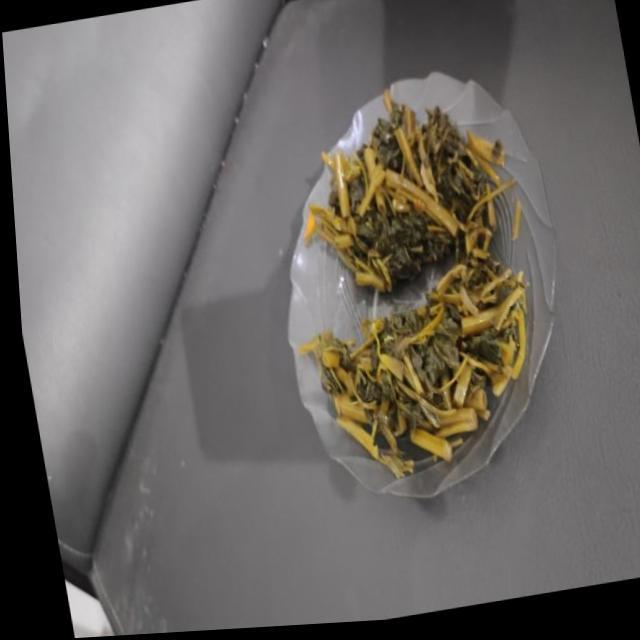tumis_kangkung: (314, 250, 528, 478), (308, 90, 515, 292)
